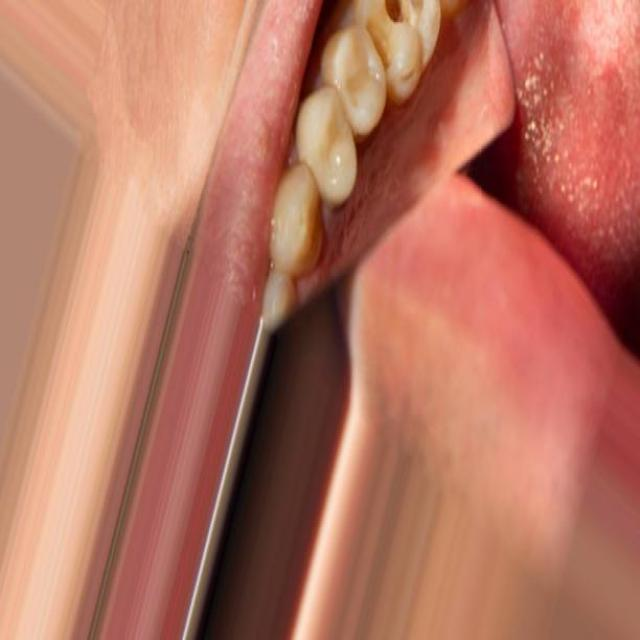caries: (370, 0, 433, 62)
